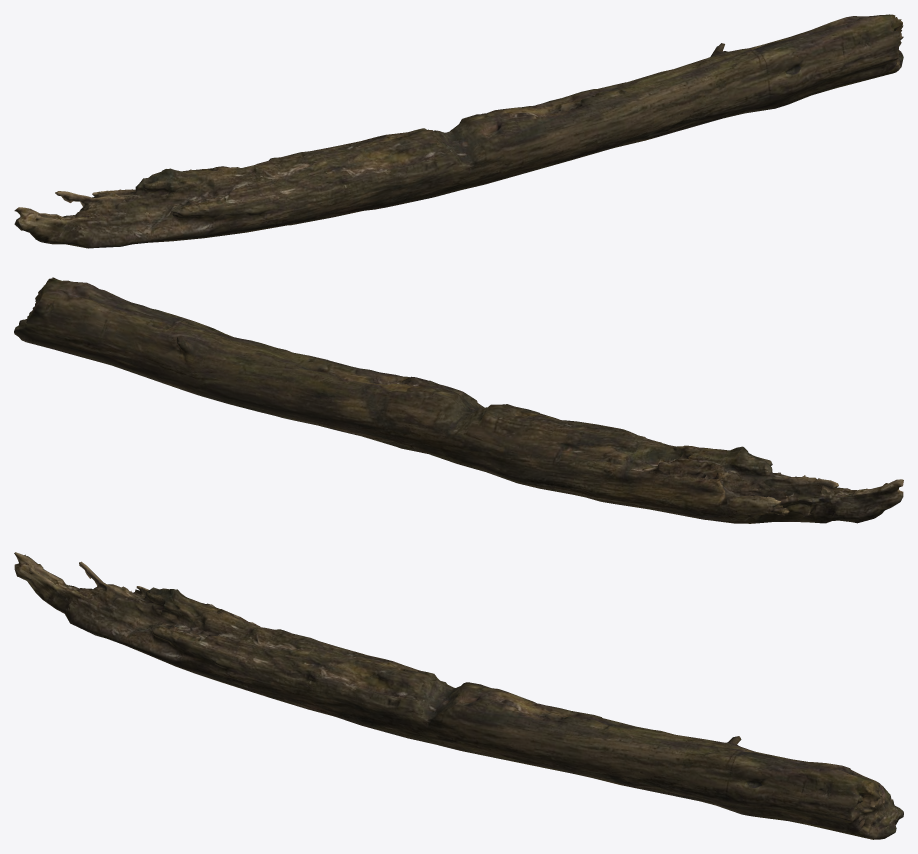
The model's file is dead_tree_trunk.glb.
The picture shows the model from 3 angles, top to bottom: view 1: azimuth 30°, elevation 25°; view 2: azimuth 150°, elevation 25°; view 3: azimuth 330°, elevation 25°; orthographic projection.
Parts seen in each view (by area): view 1: dead_tree_trunk; view 2: dead_tree_trunk; view 3: dead_tree_trunk.
Part boxes in pixels (box(x1,y1,x2,y2)): dead_tree_trunk: box(14, 14, 903, 248); dead_tree_trunk: box(14, 277, 903, 523); dead_tree_trunk: box(14, 552, 903, 839).
Bounding box in the file's own units: 3.05 × 0.2904 × 0.2773.
1 material, 1 textured.
